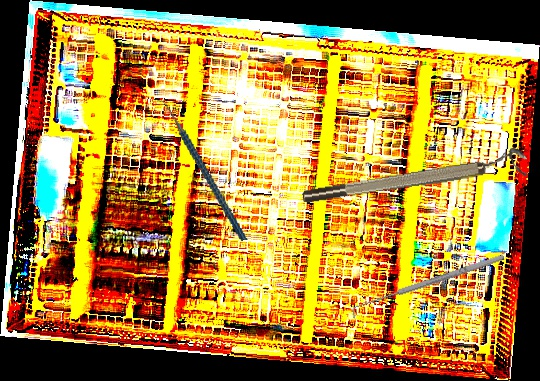Chopper: (150, 86, 248, 253)
Fixation Ring: (300, 146, 529, 207)
Hook Surgical: (348, 252, 508, 319)
